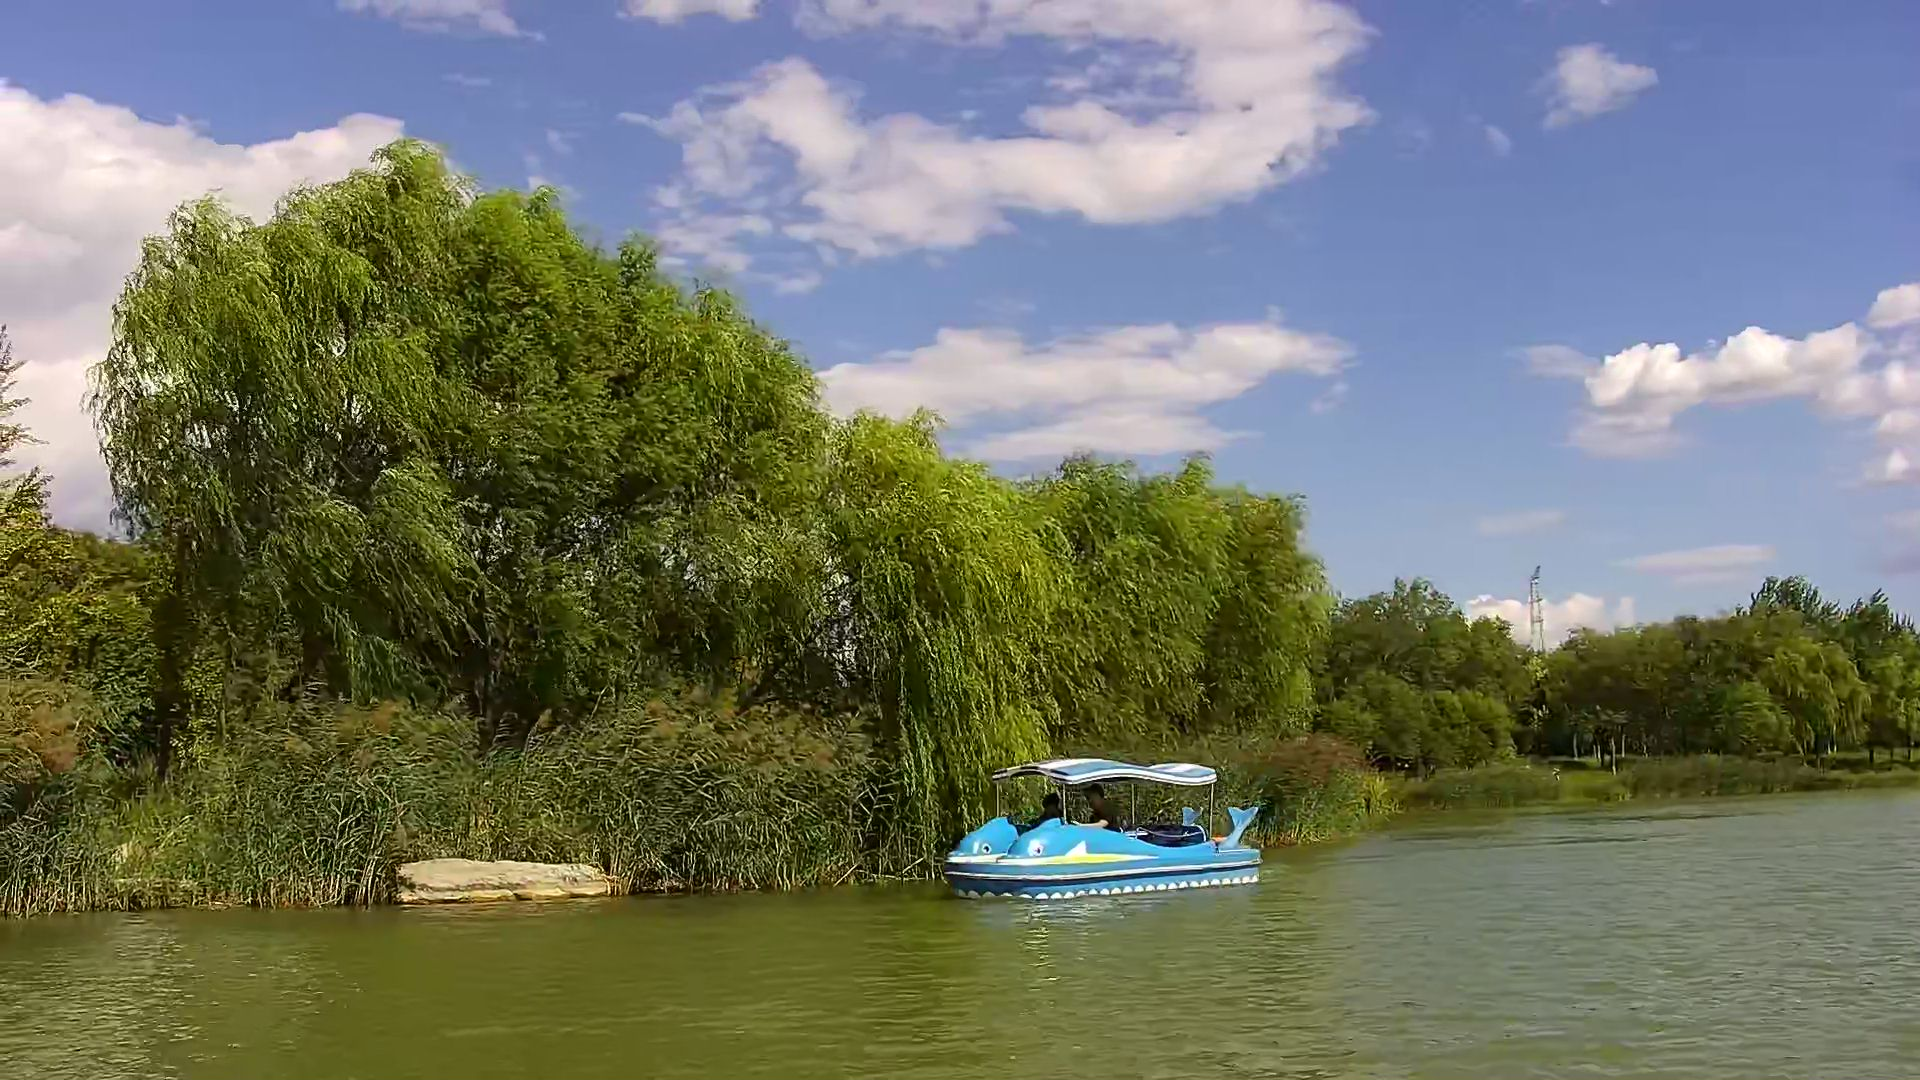boat: (944, 759, 1263, 901)
person: (1080, 784, 1124, 837), (1038, 789, 1062, 829)
rock: (395, 856, 611, 907)
